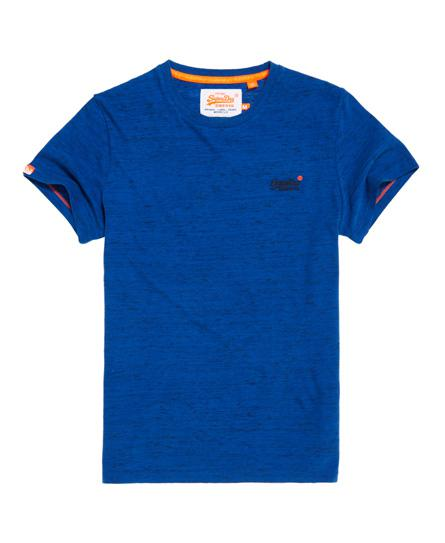teeshirt: (19, 53, 429, 489)
